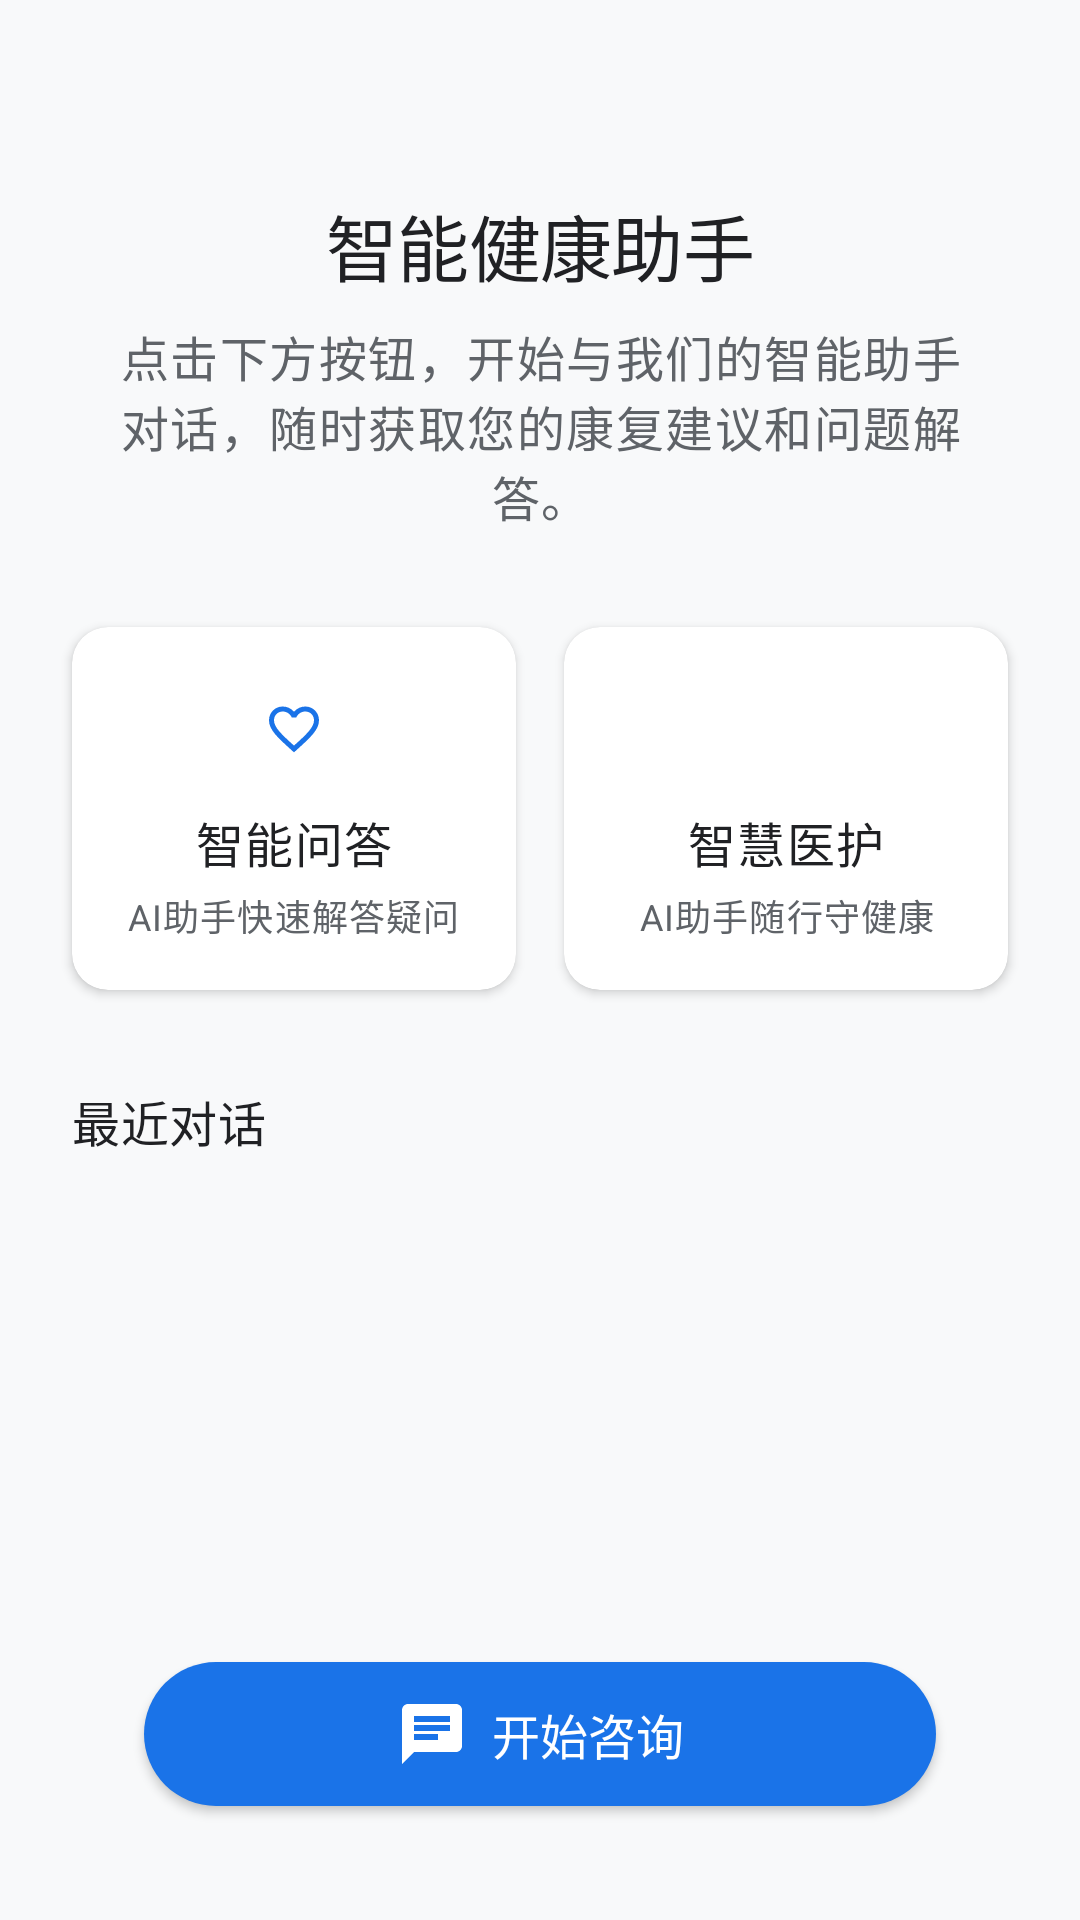

Screen size 1080w x 1920h. Icon name, then its box in pixels as box(x1, y1, x2, y2):
health: box(269, 706, 319, 752)
